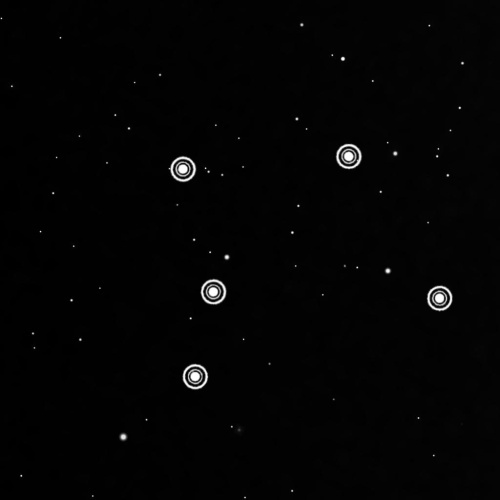libra: (162, 137, 456, 396)
